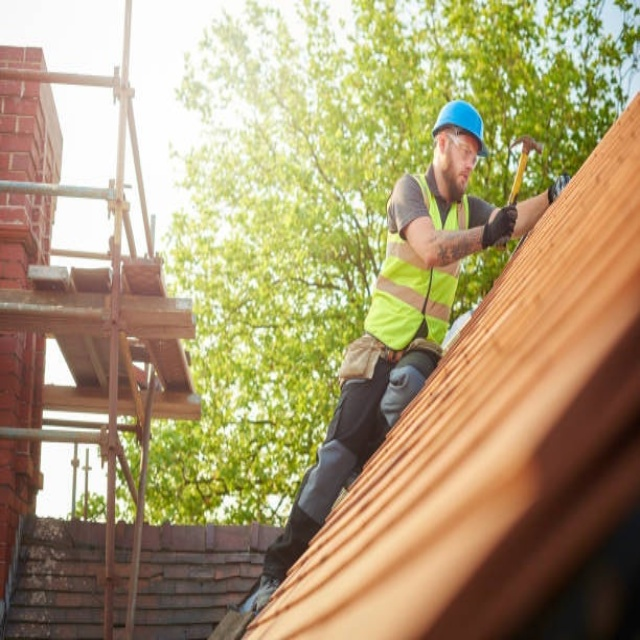Gafas: (442, 133, 481, 169)
Guantes: (482, 205, 516, 249), (548, 173, 571, 203)
Sin_mascara: (450, 173, 471, 193)
